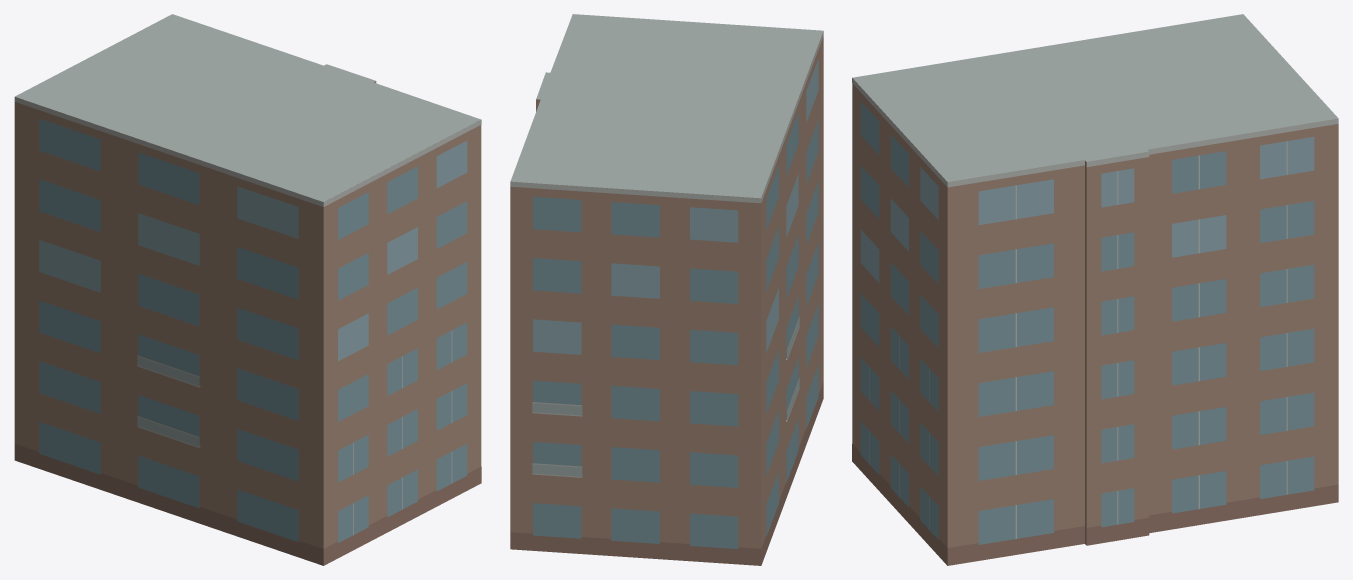
Rendered from survey-upis-32527605.glb.
3 renders of one model, left to right at view 1: azimuth 30°, elevation 25°; view 2: azimuth 150°, elevation 25°; view 3: azimuth 270°, elevation 25°, orthographic. The views are drawn at different scales.
Parts seen in each view (by area): view 1: survey-upis-32527605.tmp; view 2: survey-upis-32527605.tmp; view 3: survey-upis-32527605.tmp.
Boxes of the visible parts, x1,y1,x2,y2 form: survey-upis-32527605.tmp: (14, 14, 481, 565); survey-upis-32527605.tmp: (510, 14, 823, 565); survey-upis-32527605.tmp: (852, 14, 1338, 565).
Bounding box in the file's own units: 16.65 × 17.7 × 20.35.
